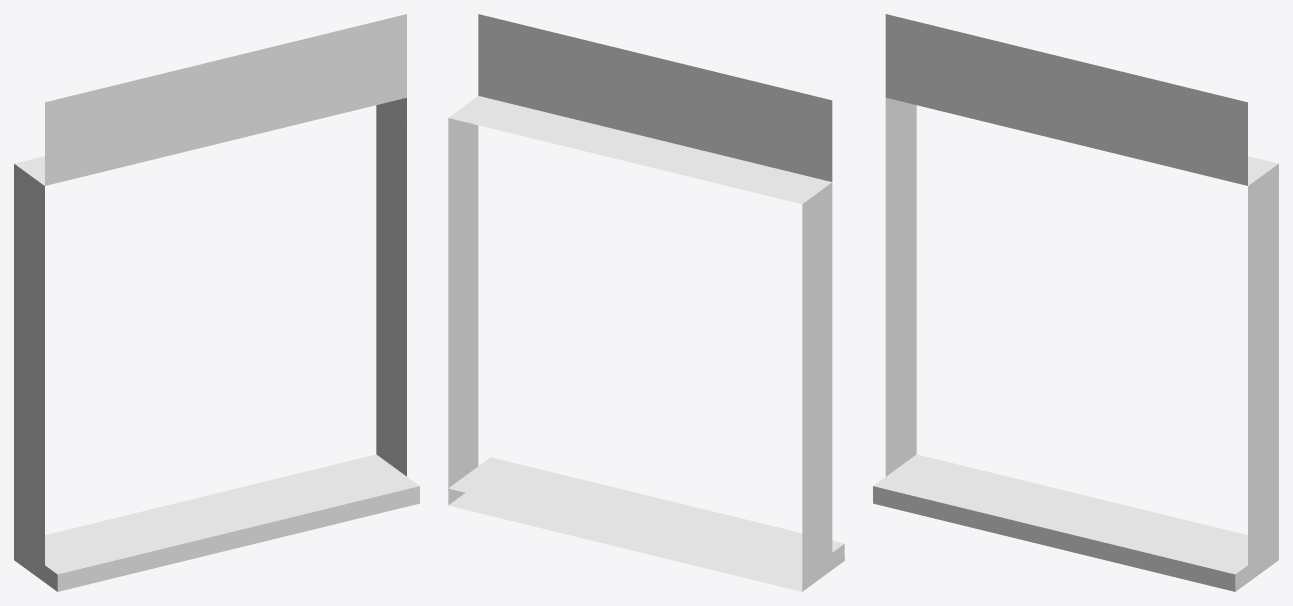
File: Itr_Wall_Color_01(for_window).FBX
3 views of the same model, side by side, from view 1: azimuth 30°, elevation 25°; view 2: azimuth 150°, elevation 25°; view 3: azimuth 330°, elevation 25° (orthographic). The views are drawn at different scales.
Parts seen in each view (by area): view 1: Itr_Wall_Color_01(for_window); view 2: Itr_Wall_Color_01(for_window); view 3: Itr_Wall_Color_01(for_window).
Part boxes in pixels (x1,y1,x2,y2): Itr_Wall_Color_01(for_window): (14,14,419,591); Itr_Wall_Color_01(for_window): (448,14,844,591); Itr_Wall_Color_01(for_window): (873,14,1278,591).
Size of the model in its own units: 65.28 by 82.71 by 13.59.
